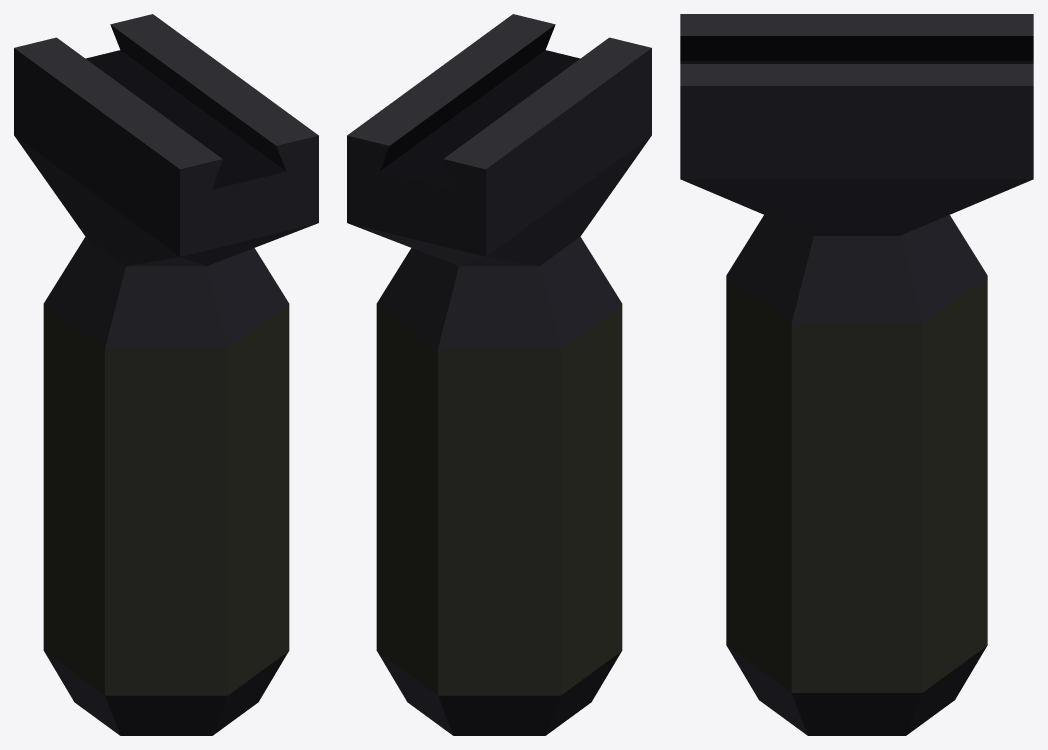
File: MW1_Device_Foregrip_01.fbx
The picture shows the model from 3 angles, left to right: view 1: azimuth 30°, elevation 25°; view 2: azimuth 150°, elevation 25°; view 3: azimuth 270°, elevation 25°; orthographic projection. The views are drawn at different scales.
Parts seen in each view (by area): view 1: Device_Foregrip_01; view 2: Device_Foregrip_01; view 3: Device_Foregrip_01.
Part boxes in pixels (x1=…): Device_Foregrip_01: x1=14, y1=14, x2=318, y2=735; Device_Foregrip_01: x1=347, y1=14, x2=651, y2=735; Device_Foregrip_01: x1=680, y1=14, x2=1033, y2=735.
Bounding box in the file's own units: 3.43 × 10.87 × 5.36.
